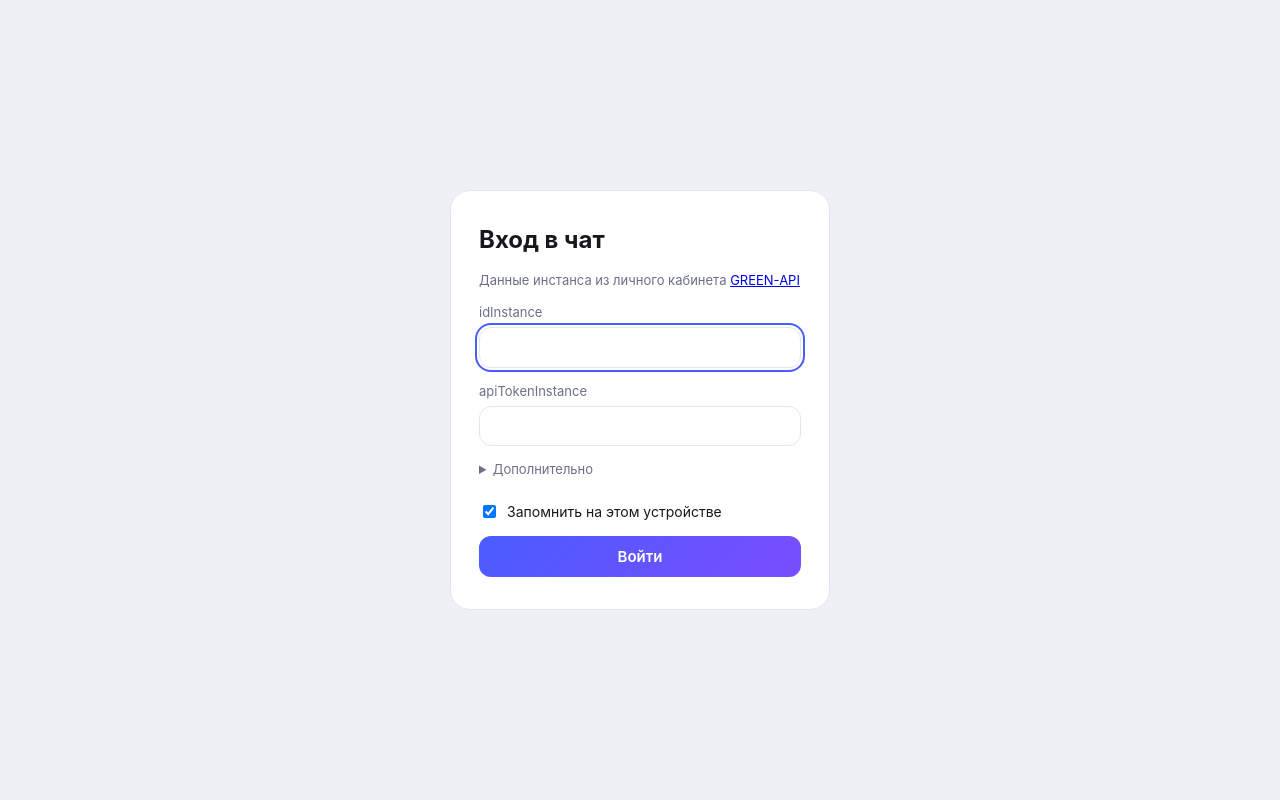
Test case: чат › подсказывает, если выключены входящие уведомления
Type "41000" into the field labelled "idInstance".
click(640, 347); type("41000")  # box [479, 327, 801, 368]
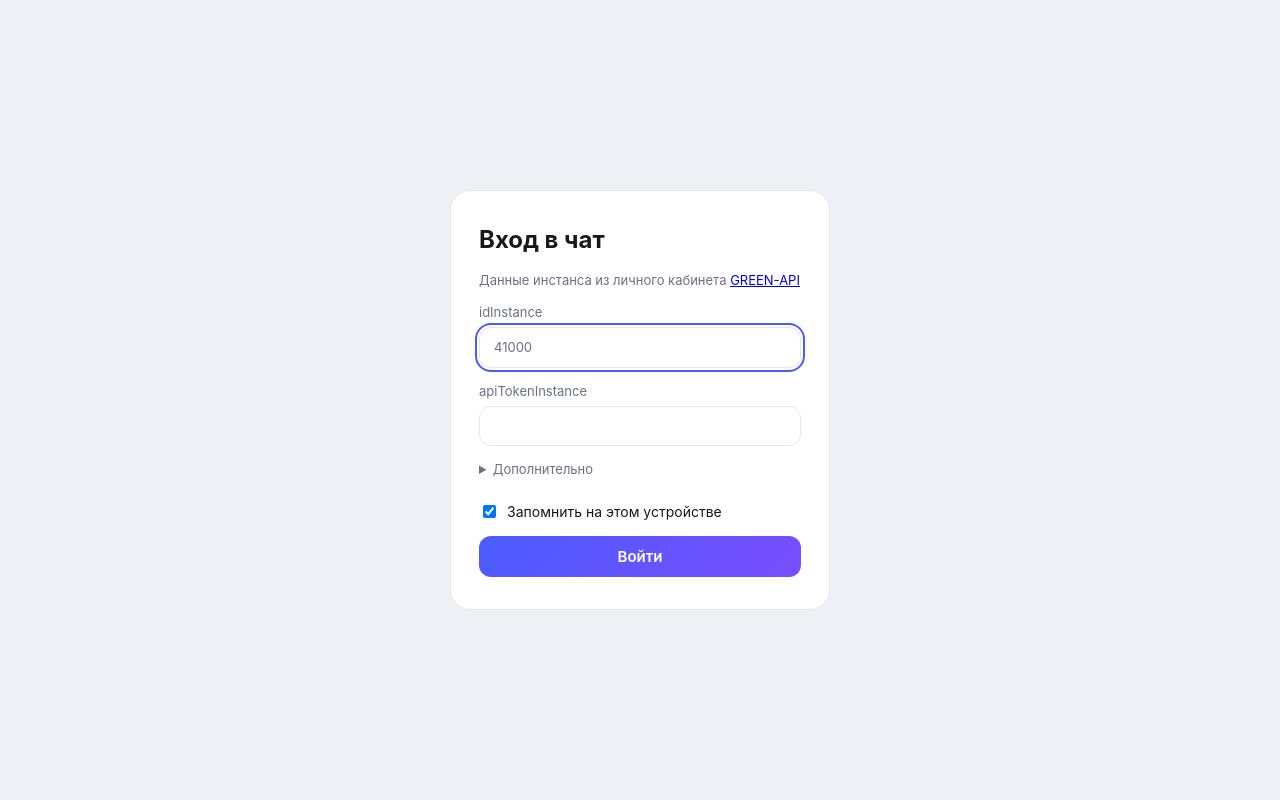
Type "secret" into the password field labelled "apiTokenInstance".
click(640, 426); type("secret")  # box [479, 406, 801, 446]
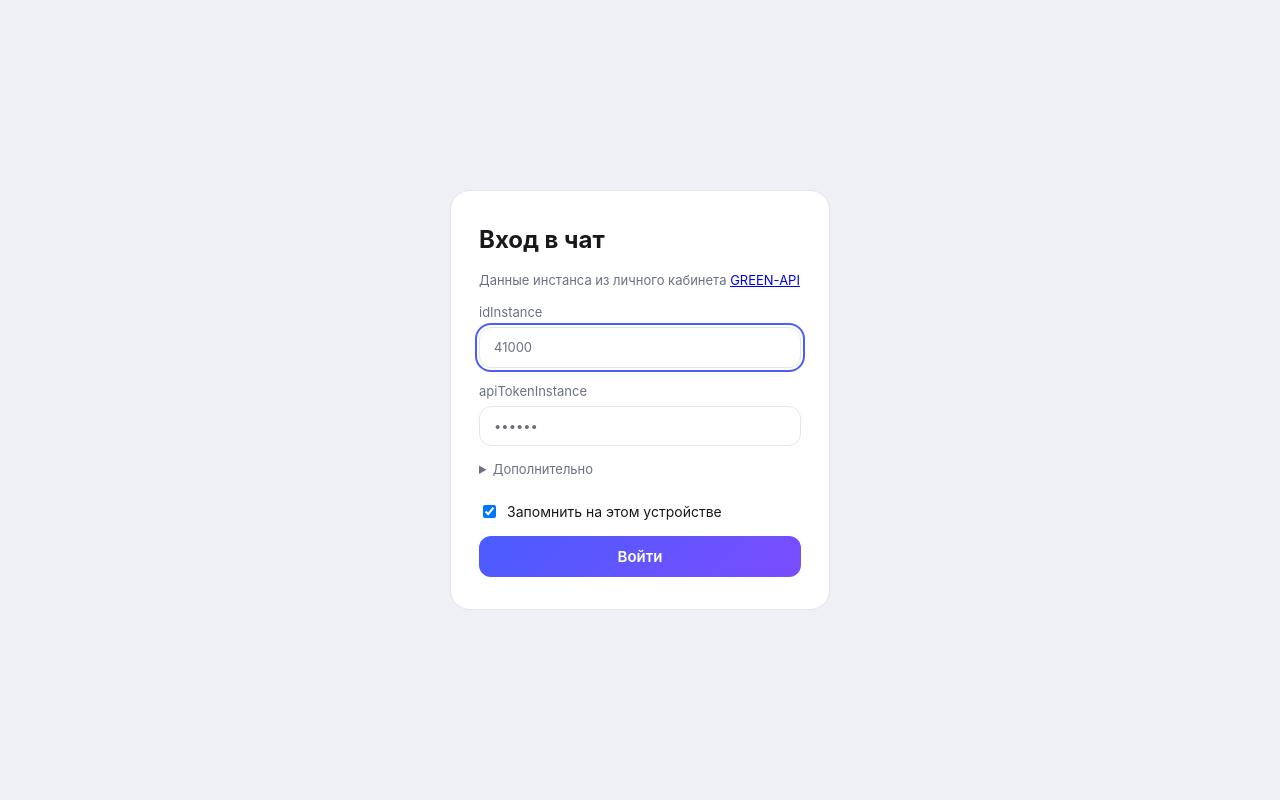
Click the button "Войти".
click(640, 556)  # box [479, 536, 801, 577]
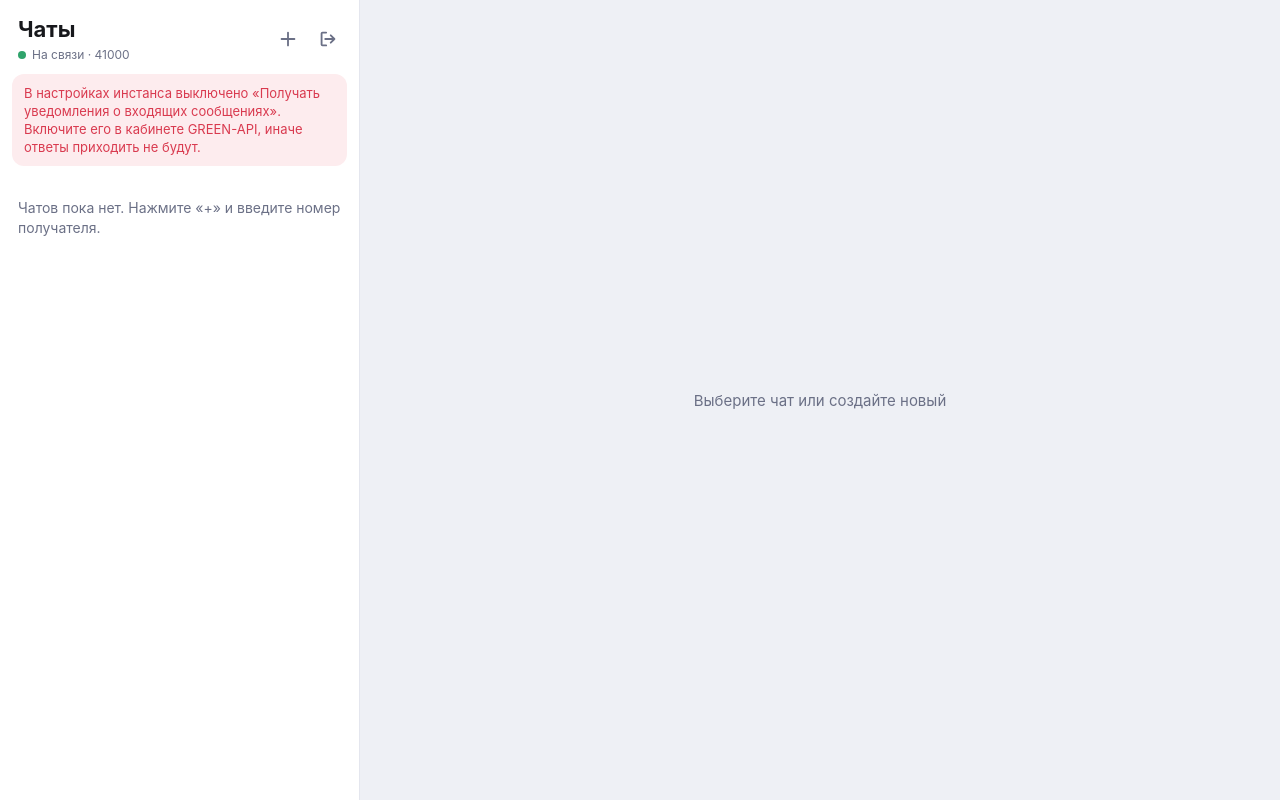
Expected: the heading "Чаты" is shown, [18, 16, 75, 42]
Expected: the text "ответы приходить не будут" is shown, [24, 85, 320, 155]
